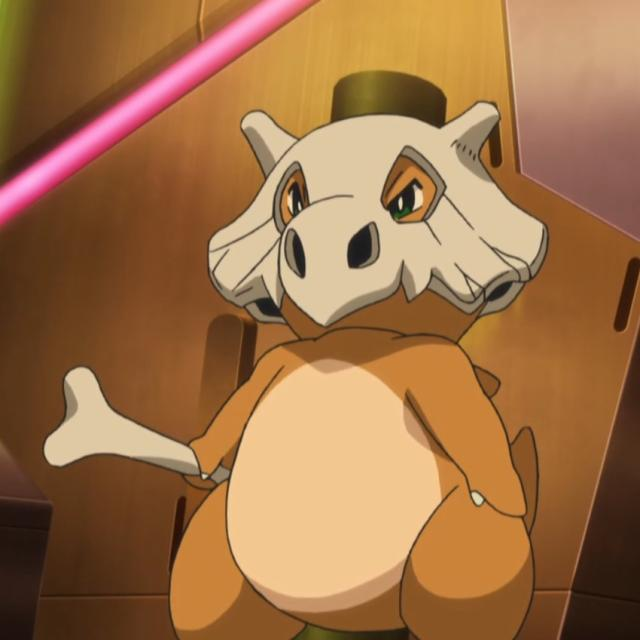Cubone: (91, 110, 554, 640)
